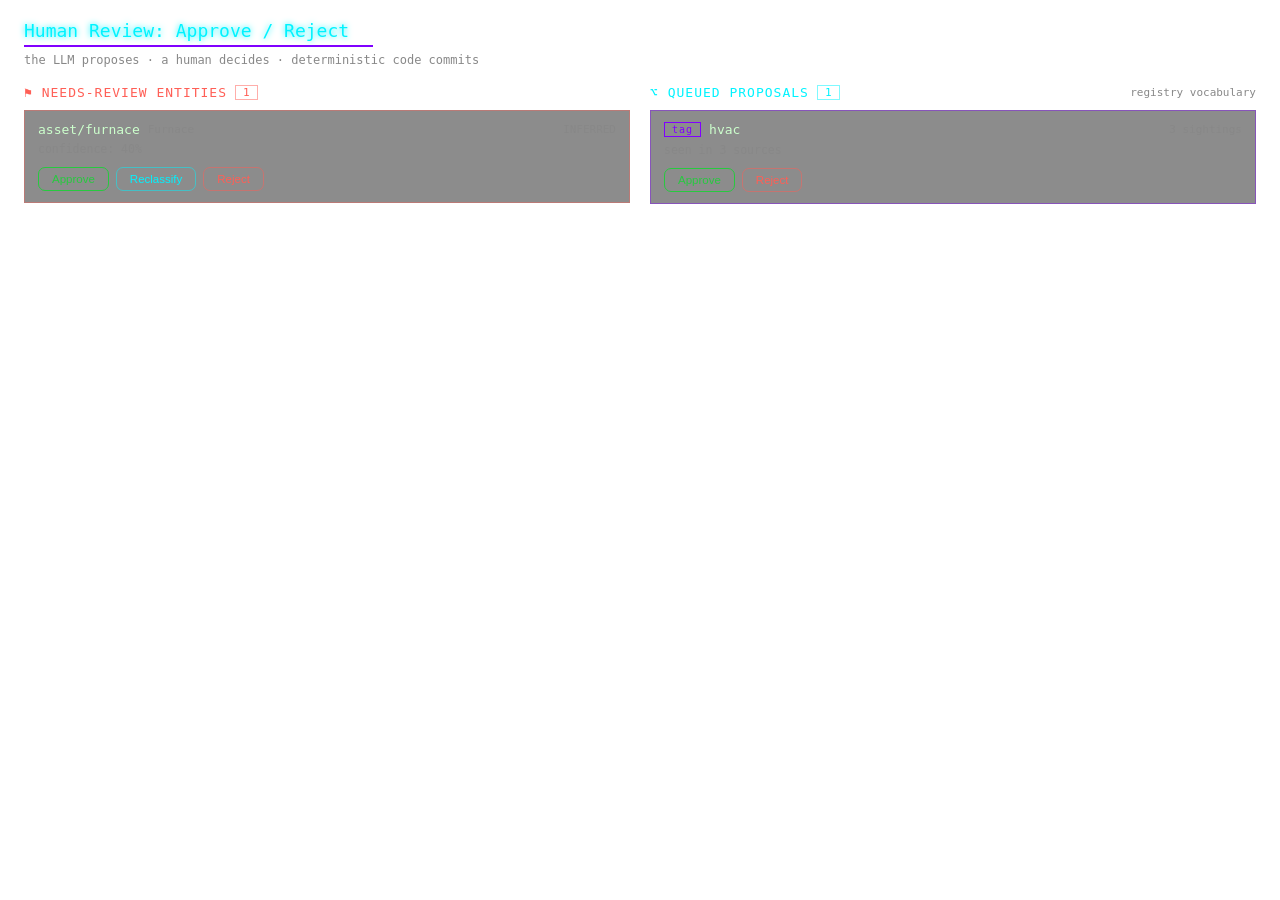
it: Review Screen › reclassify dialog › submits the correct body and shows the inline confirmation
The image size is (1280, 900).
Click the button "Reclassify" at (156, 179), box x1=116 y1=167 x2=196 y2=191
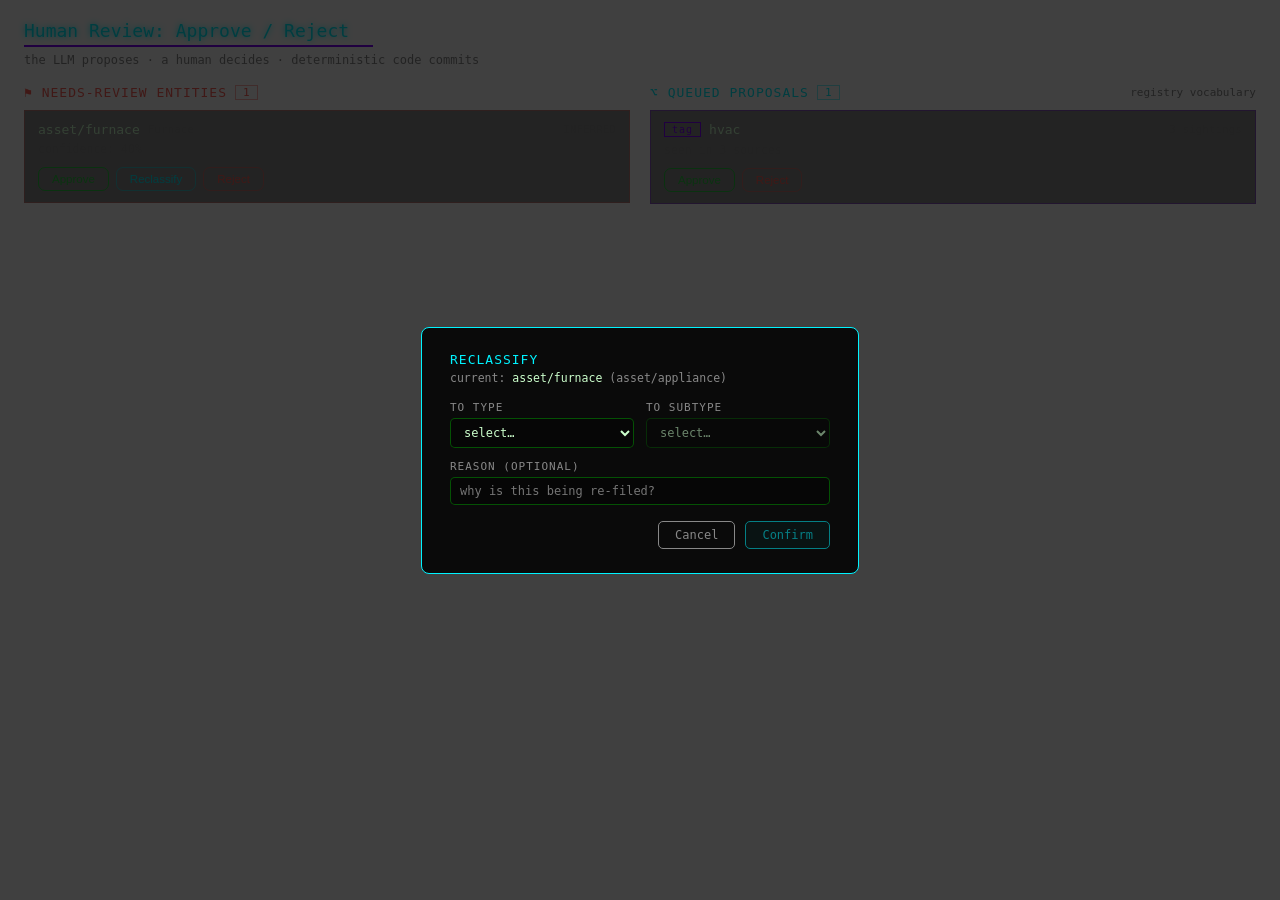
Select "property" in the dropdown named "target type" at (542, 432), box x1=450 y1=418 x2=634 y2=448
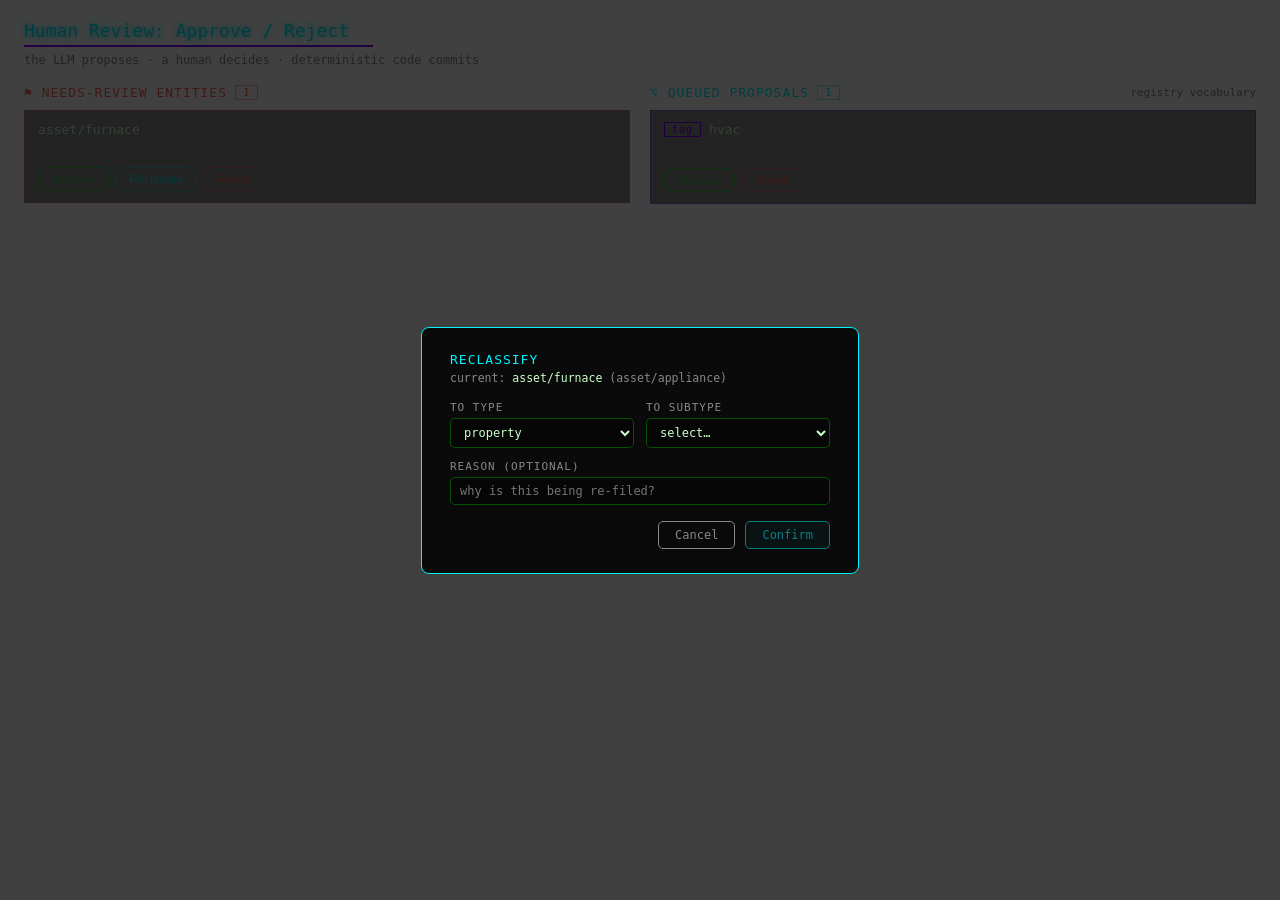
Select "home" in the dropdown named "target subtype" at (738, 432), box x1=646 y1=418 x2=830 y2=448
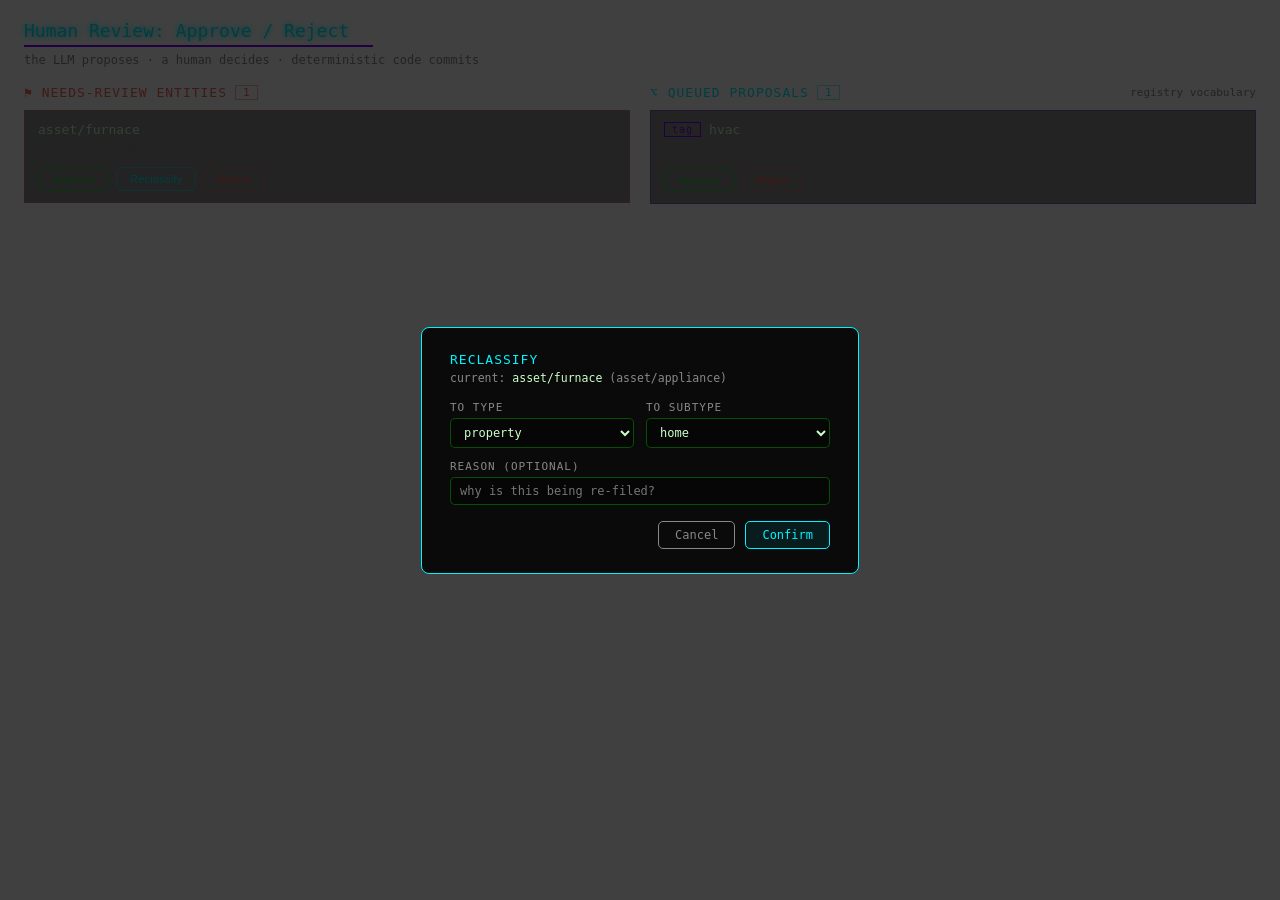
Type "wrong bucket" into the field labelled "reason" at (640, 490), box x1=450 y1=476 x2=830 y2=504
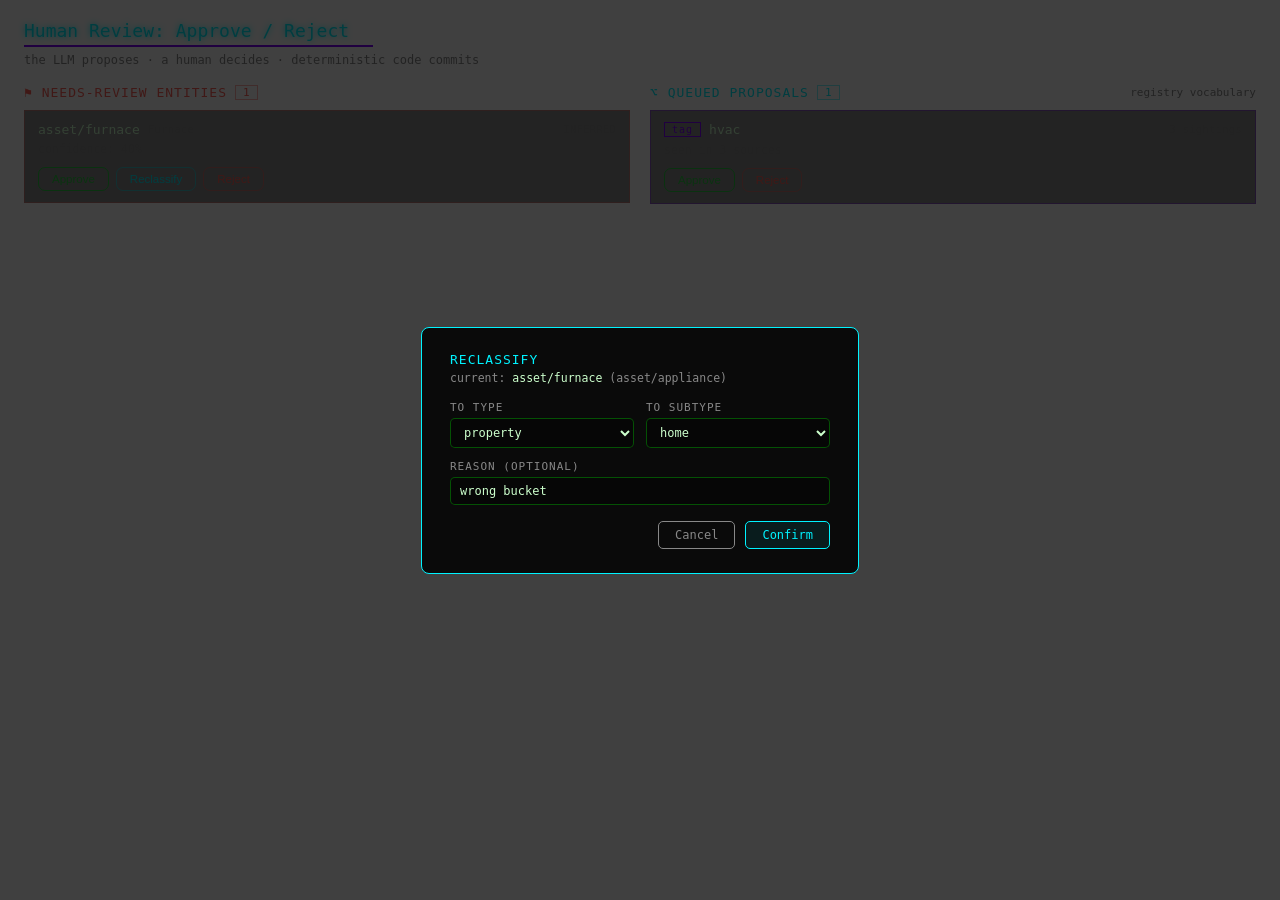
Click the button "Confirm" at (788, 534), box x1=745 y1=520 x2=830 y2=548
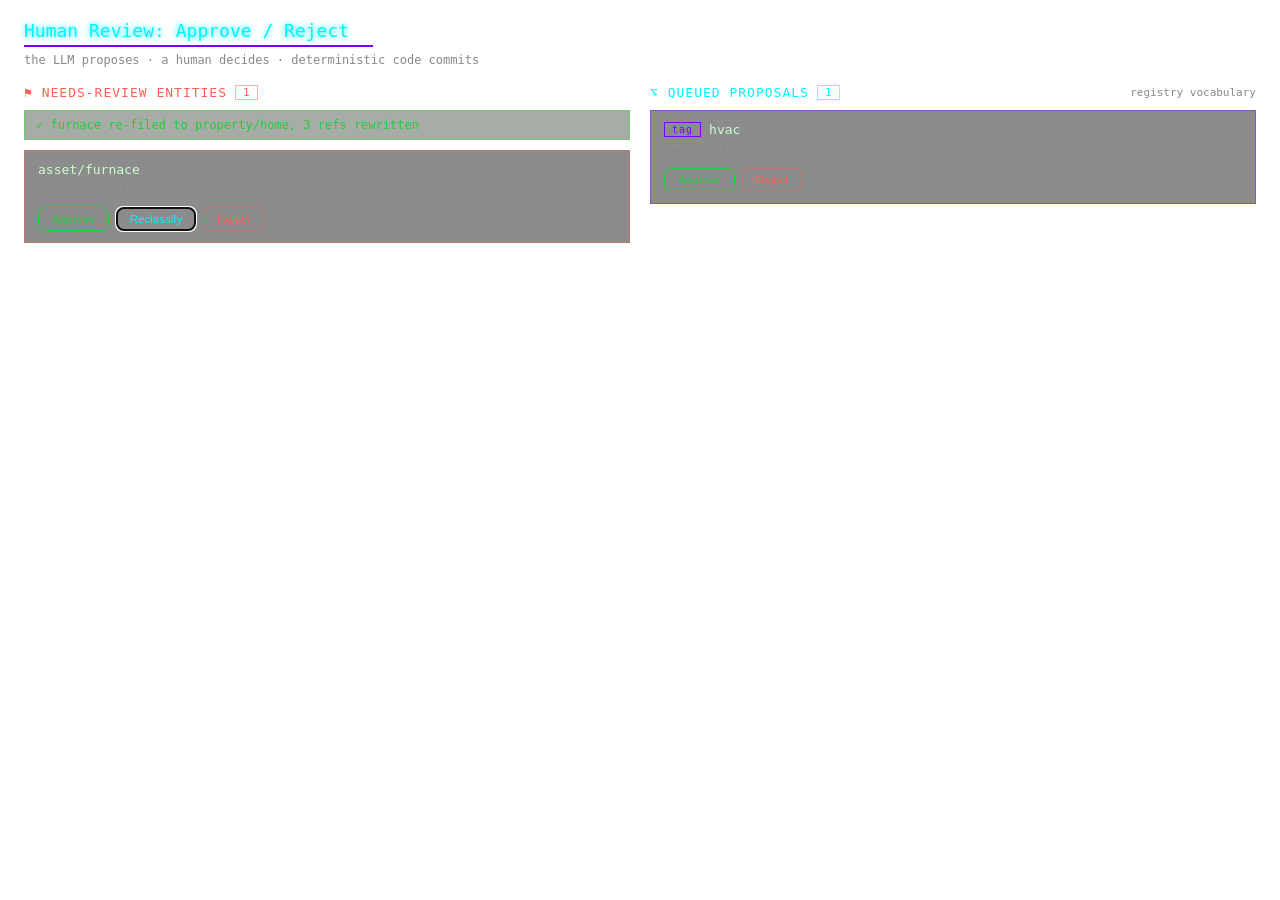
Check: the text "✓ furnace re-filed to property/home, 3 refs rewritten" is shown, box x1=24 y1=110 x2=630 y2=140
Check: the dialog is gone
